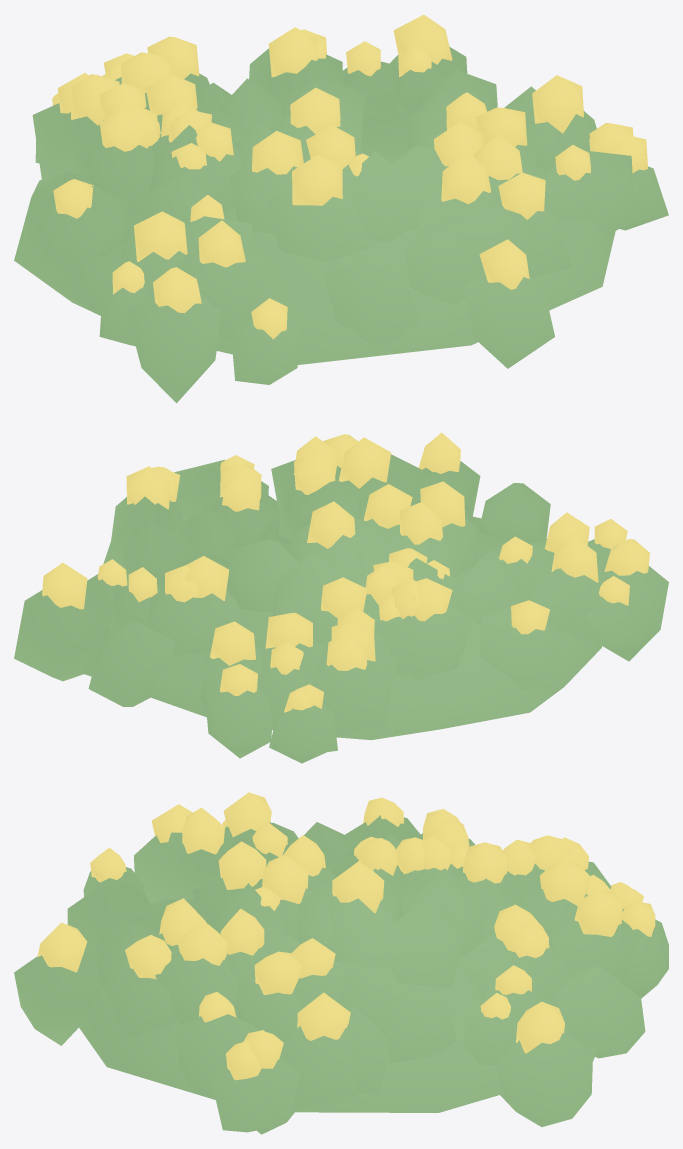
File: Blender_Heather_2.glb
The picture shows the model from 3 angles, top to bottom: view 1: azimuth 30°, elevation 25°; view 2: azimuth 150°, elevation 25°; view 3: azimuth 270°, elevation 25°; orthographic projection. The views are drawn at different scales.
Visible parts, largest first — view 1: Blender_Heather_2; view 2: Blender_Heather_2; view 3: Blender_Heather_2.
Boxes of the visible parts, x1,y1,x2,y2 form: Blender_Heather_2: (14, 14, 668, 403); Blender_Heather_2: (14, 432, 668, 763); Blender_Heather_2: (14, 792, 668, 1134).
Size of the model in its own units: 1.3 by 0.422 by 1.38.
